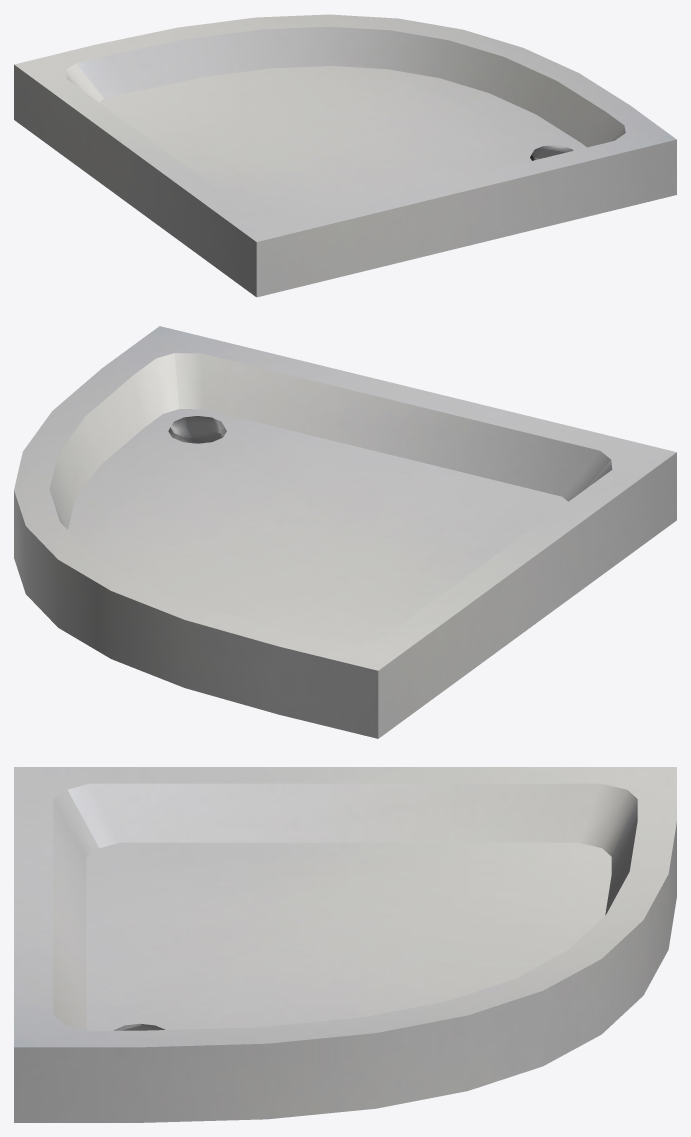
The model's file is Shower_tray.FBX.
The picture shows the model from 3 angles, top to bottom: view 1: azimuth 30°, elevation 25°; view 2: azimuth 150°, elevation 25°; view 3: azimuth 270°, elevation 25°; orthographic projection. The views are drawn at different scales.
Visible parts, largest first — view 1: Shower_tray; view 2: Shower_tray; view 3: Shower_tray.
Part boxes in pixels (x1,y1,x2,y2): Shower_tray: (14,14,676,297); Shower_tray: (14,326,676,738); Shower_tray: (14,767,676,1122).
Bounding box in the file's own units: 1.18 × 0.1489 × 1.18.
